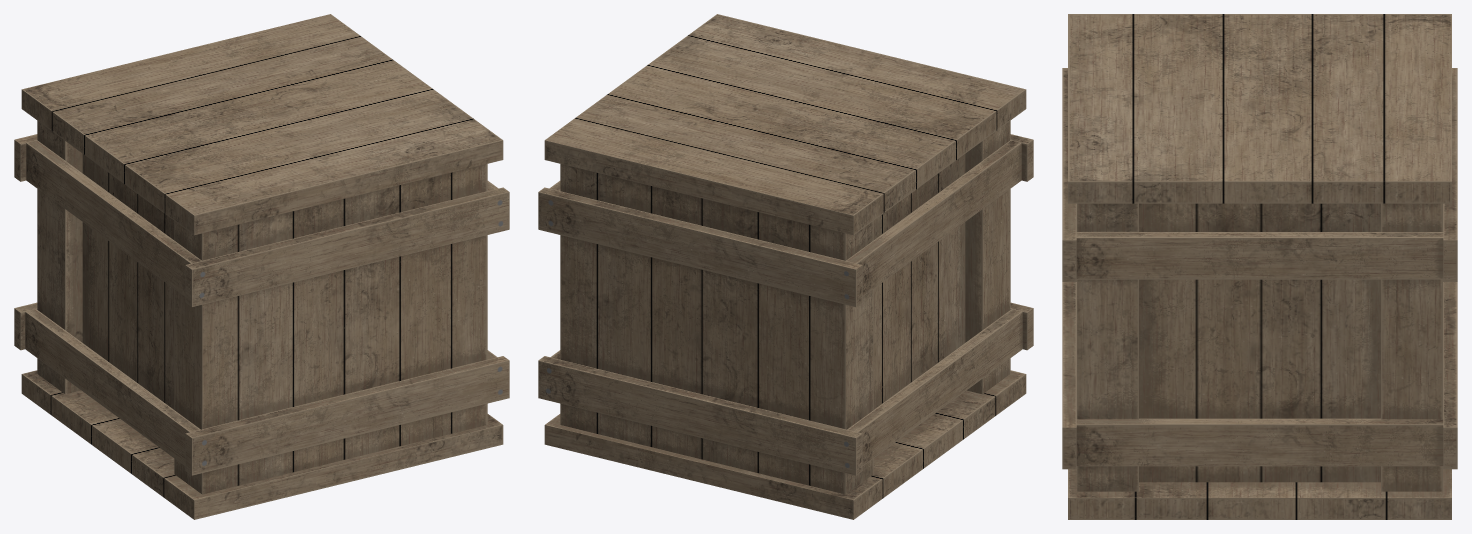
Rendered from crate1.fbx.
3 renders of one model, left to right at view 1: azimuth 30°, elevation 25°; view 2: azimuth 150°, elevation 25°; view 3: azimuth 270°, elevation 25°, orthographic. The views are drawn at different scales.
Visible parts, largest first — view 1: crate1; view 2: crate1; view 3: crate1.
Boxes of the visible parts, x1,y1,x2,y2 form: crate1: (14,14,509,519); crate1: (538,14,1033,519); crate1: (1062,14,1457,519).
Bounding box in the file's own units: 96.92 × 88.64 × 93.8.
